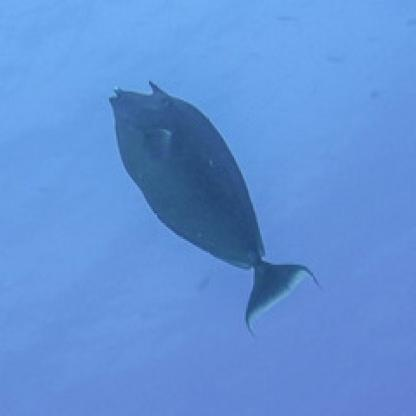surgeon: (98, 65, 332, 355)
